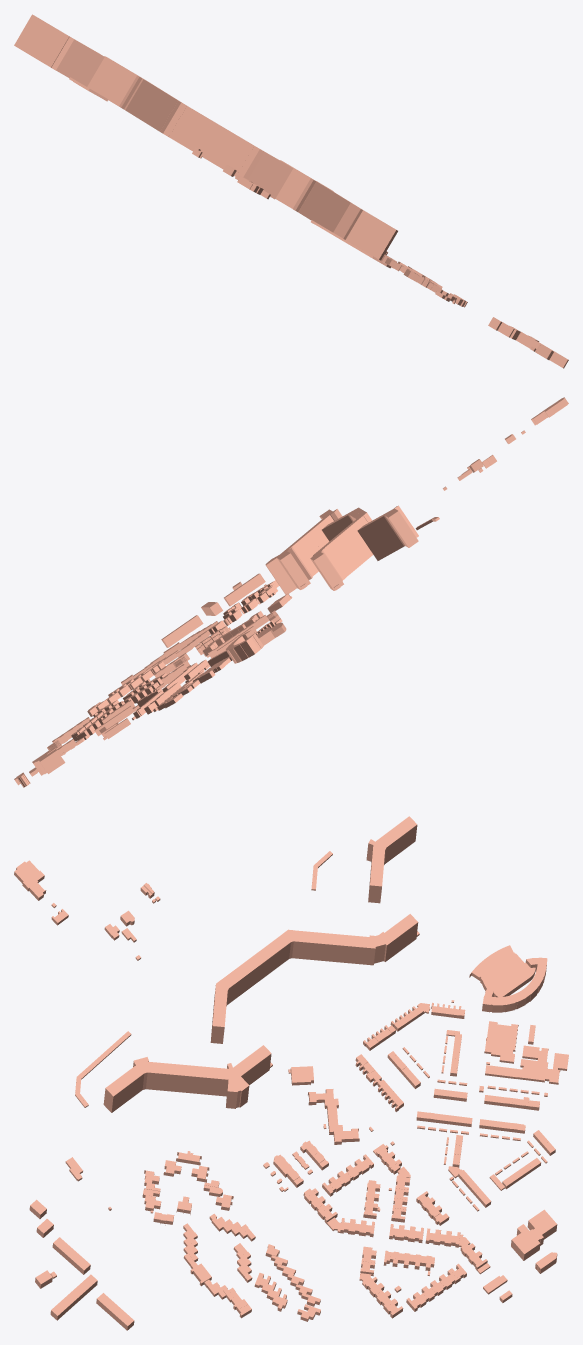
The picture shows the model from 3 angles, top to bottom: view 1: azimuth 30°, elevation 25°; view 2: azimuth 150°, elevation 25°; view 3: azimuth 270°, elevation 25°; orthographic projection. The views are drawn at different scales.
Size of the model in its own units: 529 by 421 by 637.
